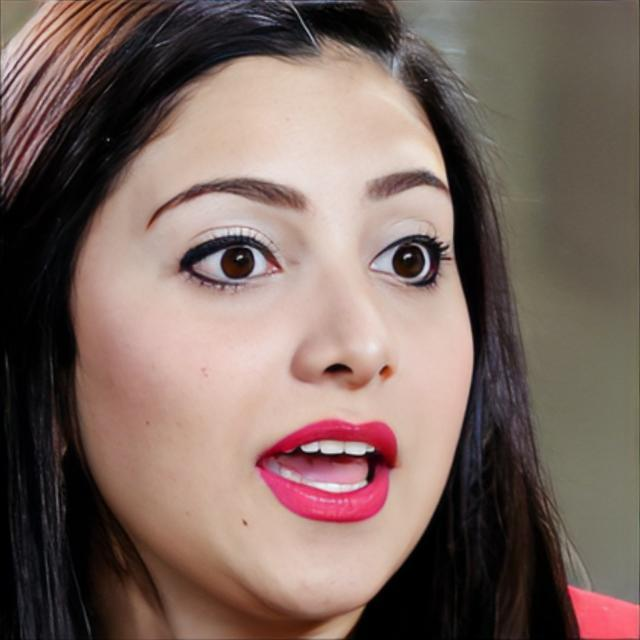surprise: (67, 30, 476, 620)
